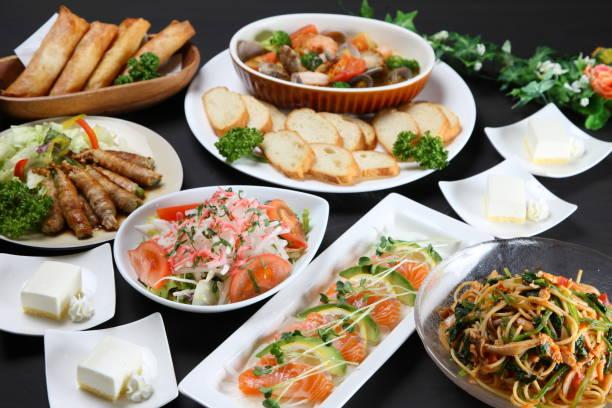Braised Crucian Carp: (197, 196, 503, 408), (185, 42, 475, 195), (413, 234, 608, 405), (118, 175, 326, 301), (0, 113, 182, 247), (44, 312, 180, 406), (1, 242, 116, 335)
